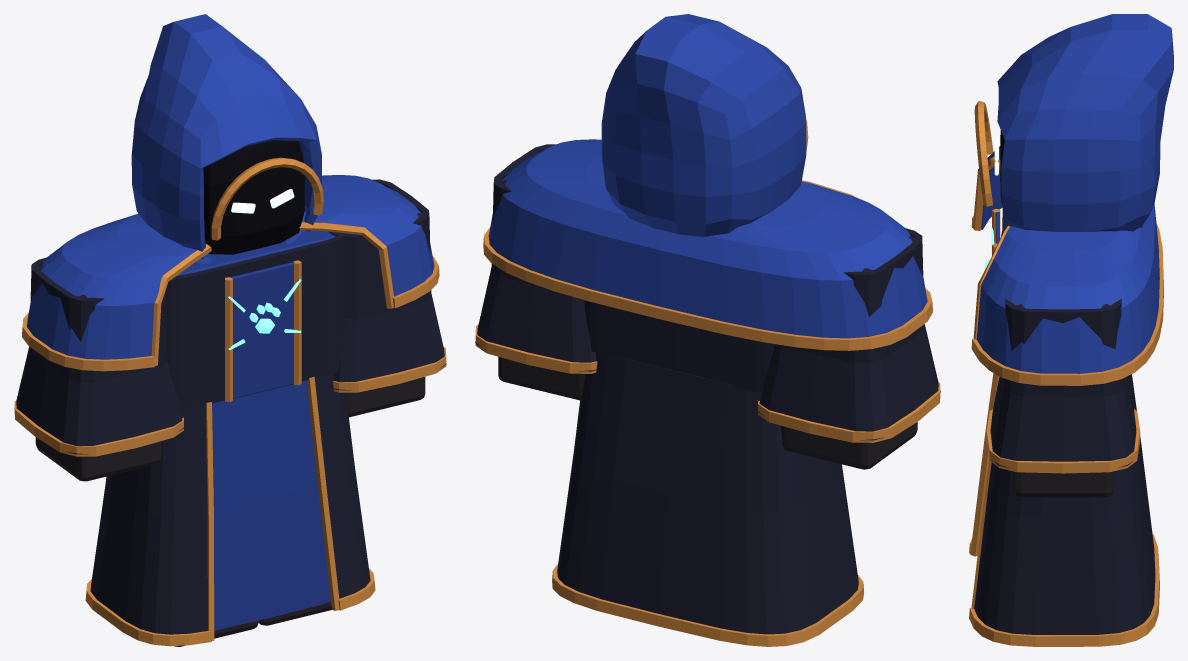
Rendered from Tower_Entrance_NPC.fbx.
The picture shows the model from 3 angles, left to right: view 1: azimuth 30°, elevation 25°; view 2: azimuth 150°, elevation 25°; view 3: azimuth 270°, elevation 25°; orthographic projection. The views are drawn at different scales.
Parts seen in each view (by area): view 1: LowerTorso_LongCoat, Head_Hood, LowerTorso_InnerRobe, UpperTorso_HoodMantle, UpperTorso_Coat, RightLowerArm_SleeveFlare, Head, UpperTorso_Shirt, LeftLowerArm_SleeveFlare, LeftUpperArm_Sleeve, LowerTorso_LongCoatEdgeTrim, RightUpperArm_Sleeve (+10 smaller); view 2: LowerTorso_LongCoat, UpperTorso_HoodMantle, Head_Hood, RightLowerArm_SleeveFlare, UpperTorso_Coat, LeftLowerArm_SleeveFlare, UpperTorso_HoodMantleHem, LowerTorso_LongCoatHem, RightUpperArm_Sleeve, RightHand, RightLowerArm_CuffTrim, LeftHand (+2 smaller); view 3: Head_Hood, LowerTorso_LongCoat, UpperTorso_HoodMantle, LeftLowerArm_SleeveFlare, LeftUpperArm_Sleeve, UpperTorso_HoodMantleHem, LowerTorso_LongCoatHem, LeftHand, LeftLowerArm_CuffTrim, LowerTorso_LongCoatEdgeTrim, Head_HoodTrim, UpperTorso_HoodMantleEdgeTrim.
Boxes of the visible parts, x1,y1,x2,y2 form: LowerTorso_LongCoat: (90,373,370,634); Head_Hood: (131,14,321,264); LowerTorso_InnerRobe: (212,380,330,630); UpperTorso_HoodMantle: (27,175,434,359); UpperTorso_Coat: (166,232,346,410); RightLowerArm_SleeveFlare: (14,346,183,454); Head: (203,140,304,254); UpperTorso_Shirt: (230,261,294,398); LeftLowerArm_SleeveFlare: (334,294,446,390); LeftUpperArm_Sleeve: (328,179,431,318); LowerTorso_LongCoatEdgeTrim: (205,376,339,640); RightUpperArm_Sleeve: (29,257,167,382); LowerTorso_LongCoat: (557,353,858,634); UpperTorso_HoodMantle: (488,139,927,338); Head_Hood: (601,14,806,236); RightLowerArm_SleeveFlare: (758,324,940,440); UpperTorso_Coat: (584,300,774,392); LeftLowerArm_SleeveFlare: (475,267,596,371); UpperTorso_HoodMantleHem: (483,227,932,350); LowerTorso_LongCoatHem: (552,563,863,646); RightUpperArm_Sleeve: (783,228,924,363); RightHand: (781,422,917,469); RightLowerArm_CuffTrim: (758,382,940,442); LeftHand: (498,356,584,400); Head_Hood: (997,14,1173,231); LowerTorso_LongCoat: (974,374,1155,634); UpperTorso_HoodMantle: (976,146,1159,373); LeftLowerArm_SleeveFlare: (990,376,1136,467); LeftUpperArm_Sleeve: (1003,299,1123,397); UpperTorso_HoodMantleHem: (971,215,1163,385); LowerTorso_LongCoatHem: (969,534,1159,646); LeftHand: (1013,471,1113,497); LeftLowerArm_CuffTrim: (986,409,1140,473); LowerTorso_LongCoatEdgeTrim: (970,373,999,608); Head_HoodTrim: (974,101,993,206); UpperTorso_HoodMantleEdgeTrim: (973,156,1010,339).
Bounding box in the file's own units: 1.25 × 1.71 × 0.5496.
